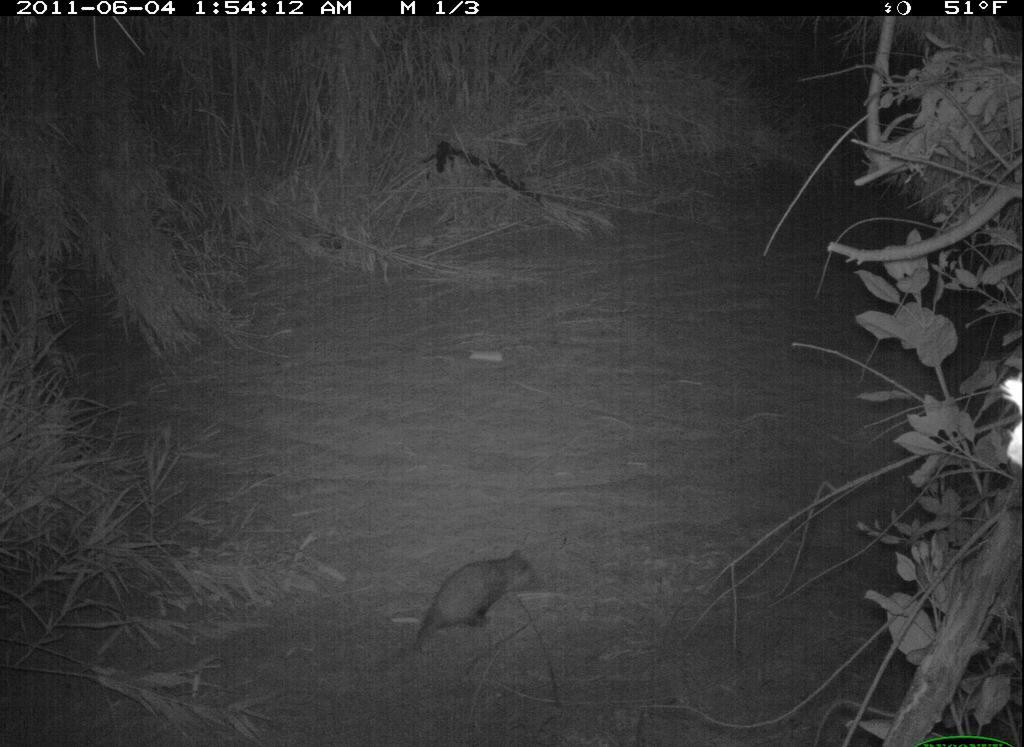opossum: (409, 546, 548, 662)
